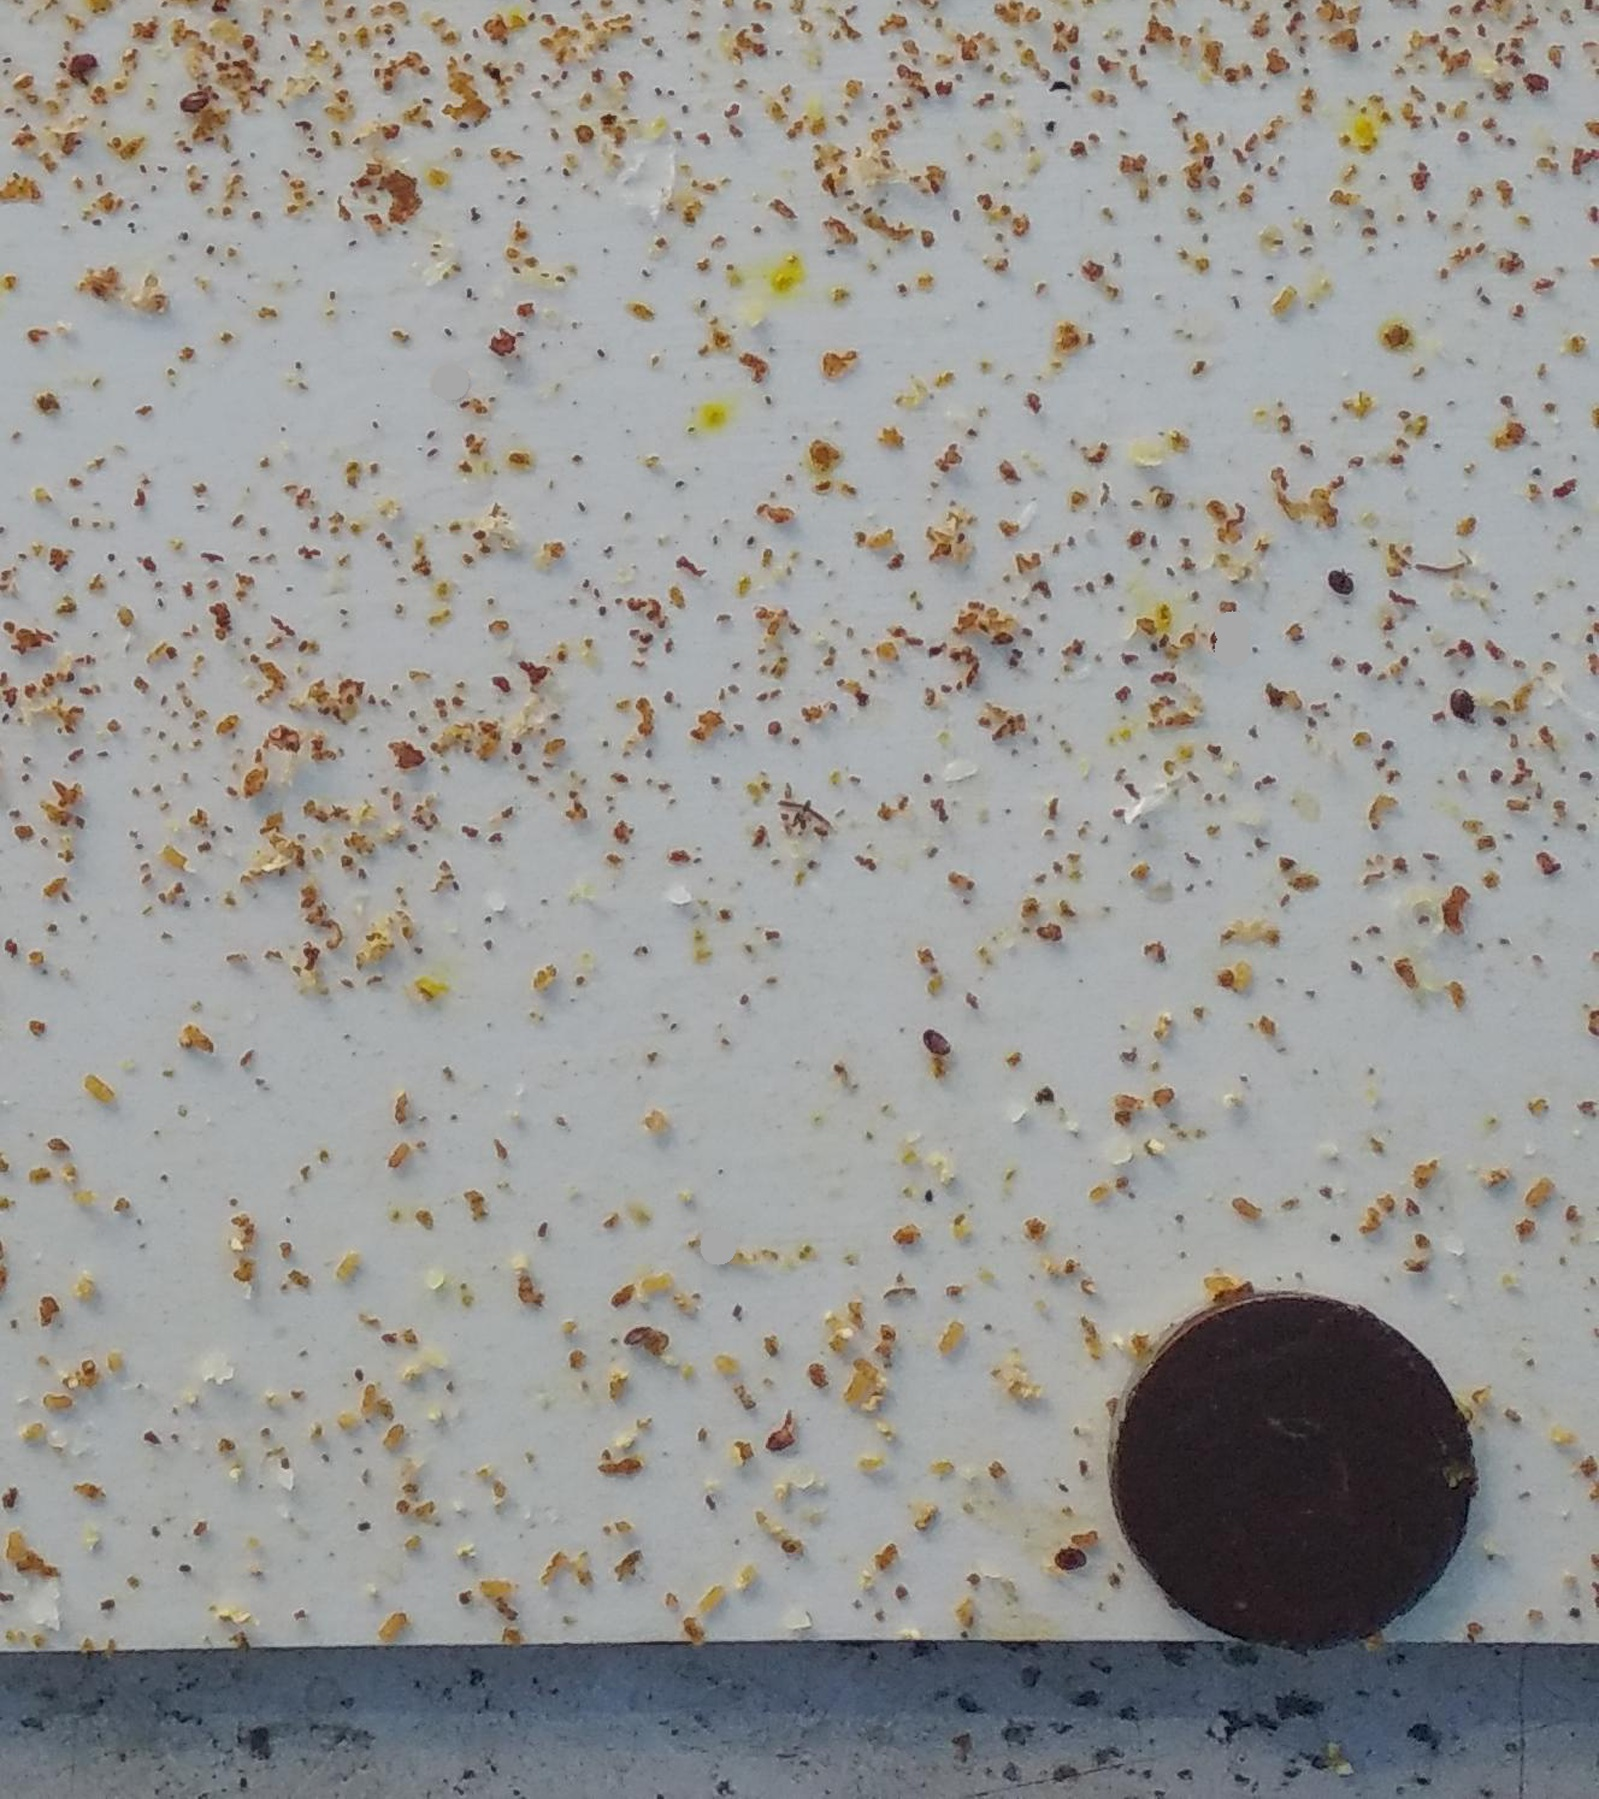Varroa: (62, 43, 105, 85), (1323, 571, 1351, 602), (1198, 626, 1225, 656), (918, 1024, 948, 1052), (181, 89, 208, 116), (1056, 1541, 1080, 1568), (1454, 691, 1472, 710)
